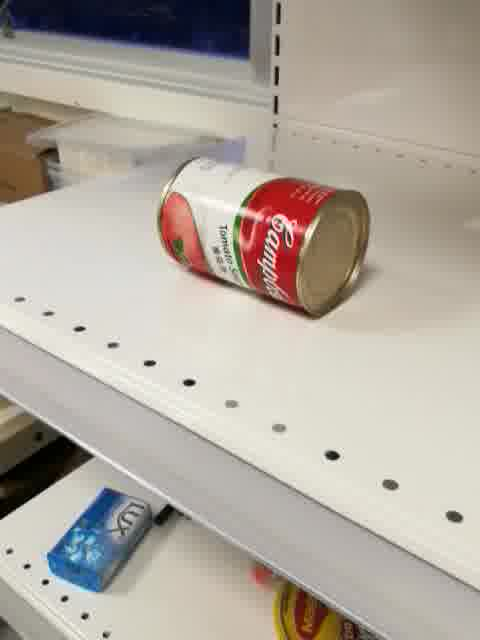tomatosoup: (155, 154, 371, 321)
